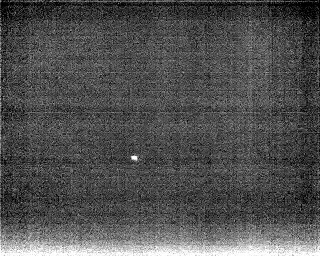AIRPLANE: (129, 152, 140, 164)
